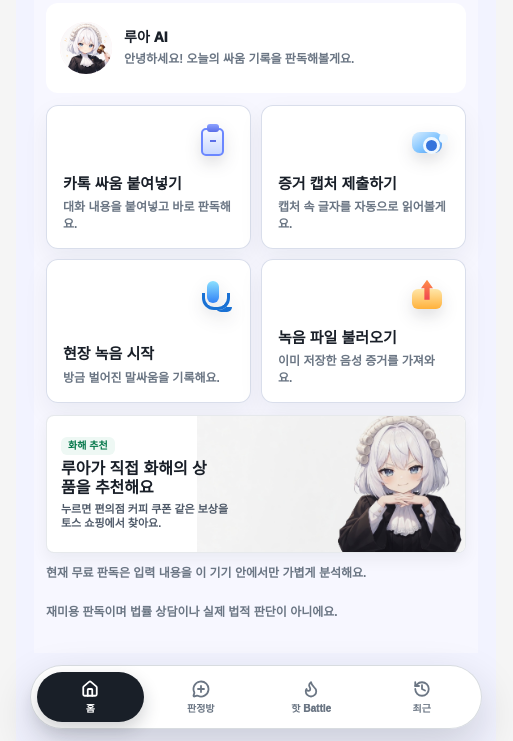
Test case: InputHome › loads hot battle ranking from the result share service
What coordinates should you click on to do the following:
click the button "핫 Battle"
I would click on:
 (311, 697)
Its box is 258,672 -> 364,722.
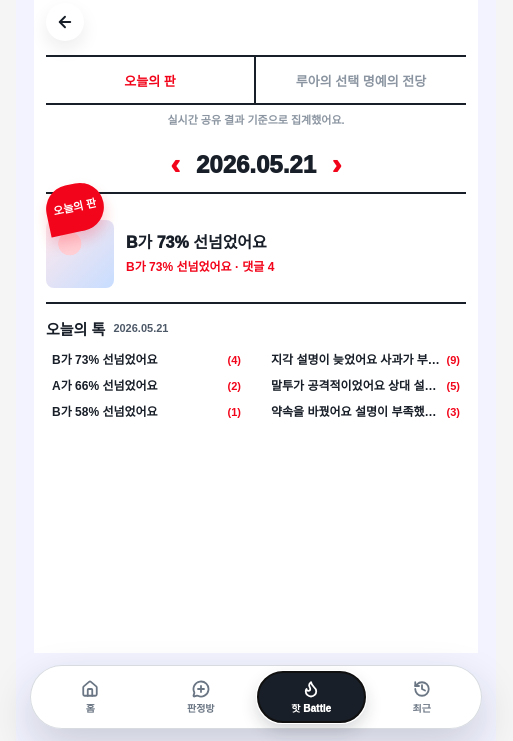
Result: the text "실시간 공유 결과 기준으로 집계했어요." is shown at 167,114 -> 345,126
Result: the 1st text "B가 73% 선넘었어요" is shown at 126,234 -> 267,251
Result: the text "B가 73% 선넘었어요 · 댓글 4" is shown at 126,260 -> 274,274
